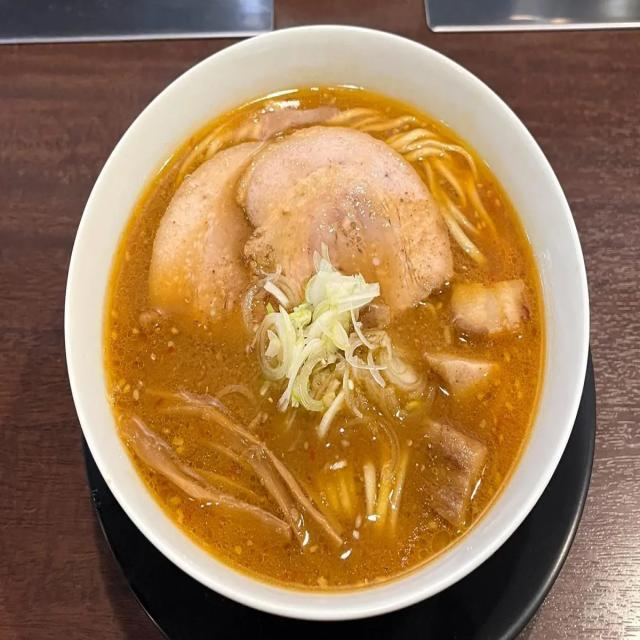cac loai rau cu: (120, 366, 337, 539), (243, 259, 434, 423)
mi misoramen: (117, 96, 531, 568)
soi mi miso: (372, 106, 521, 247), (300, 413, 432, 549)
thit heo: (139, 137, 341, 334), (242, 141, 459, 315)
